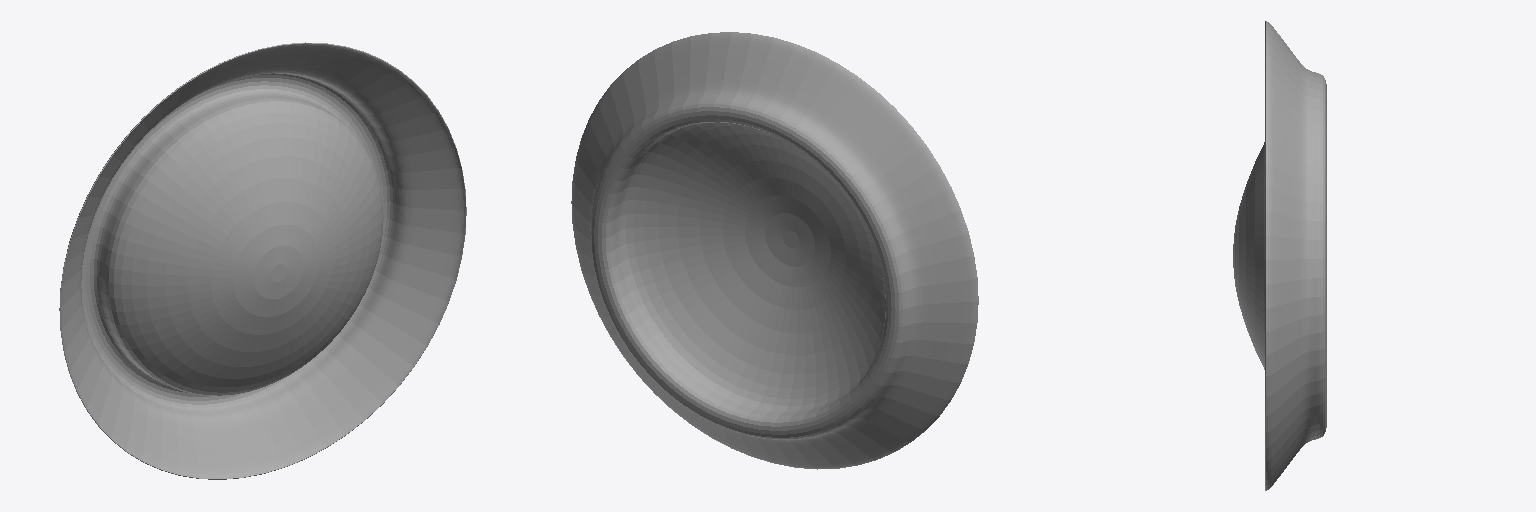
Rendered from CokeCanBottom.obj.
The picture shows the model from 3 angles: view 1: azimuth 30°, elevation 25°; view 2: azimuth 150°, elevation 25°; view 3: azimuth 270°, elevation 25°; orthographic projection.
Visible parts, largest first — view 1: CokeCanBottom; view 2: CokeCanBottom; view 3: CokeCanBottom.
Boxes of the visible parts, box(x1,y1,x2,y2) form: CokeCanBottom: box(59, 42, 466, 479); CokeCanBottom: box(571, 32, 978, 469); CokeCanBottom: box(1233, 21, 1326, 490).
Bounding box in the file's own units: 0.0588 × 0.0588 × 0.0117.